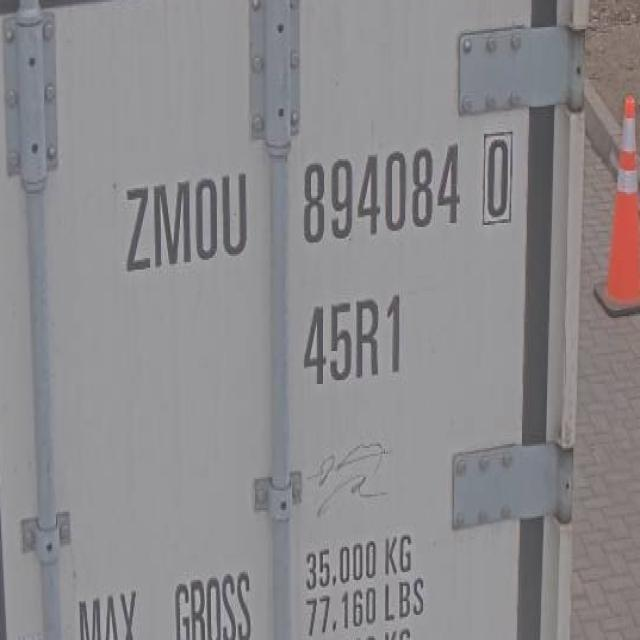dv: (474, 121, 520, 230)
owner: (122, 163, 255, 284)
serial: (293, 134, 464, 252)
size: (299, 283, 412, 396)
